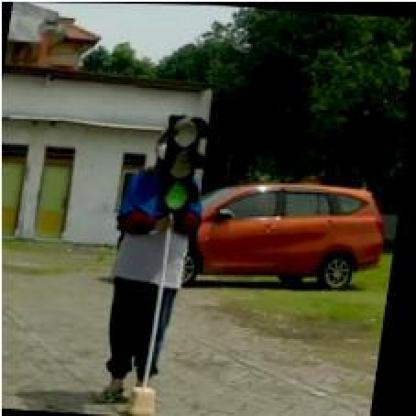green: (157, 111, 210, 215)
